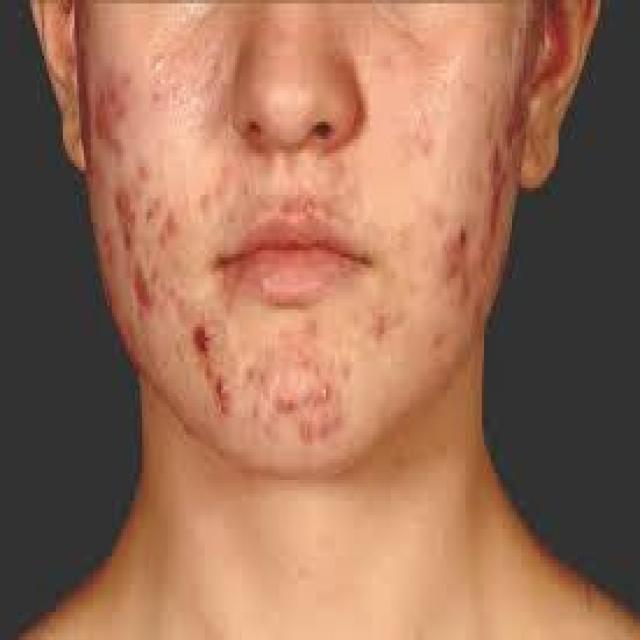Acne: (95, 67, 132, 169), (484, 138, 508, 239), (115, 187, 137, 251), (133, 260, 154, 324), (212, 371, 232, 419), (190, 321, 212, 359), (452, 217, 473, 256), (159, 211, 179, 249), (273, 391, 299, 415), (298, 418, 316, 449), (374, 313, 391, 343), (303, 194, 318, 226), (318, 381, 334, 407), (135, 162, 152, 186)
